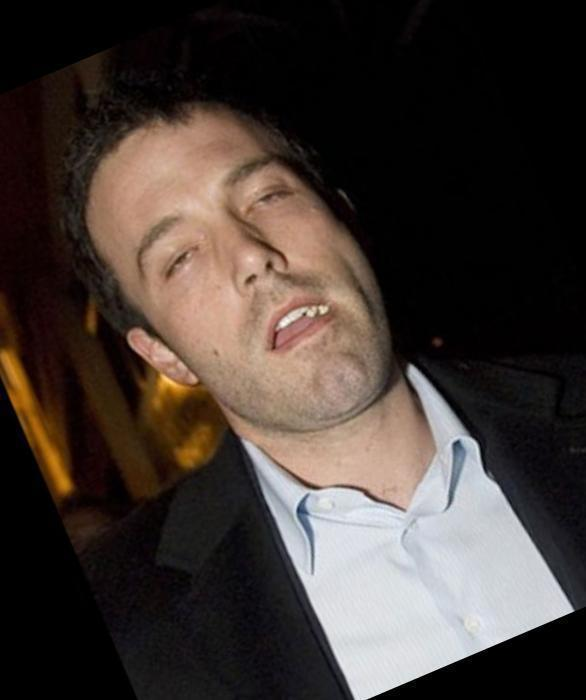Drunk: (95, 112, 379, 422)
